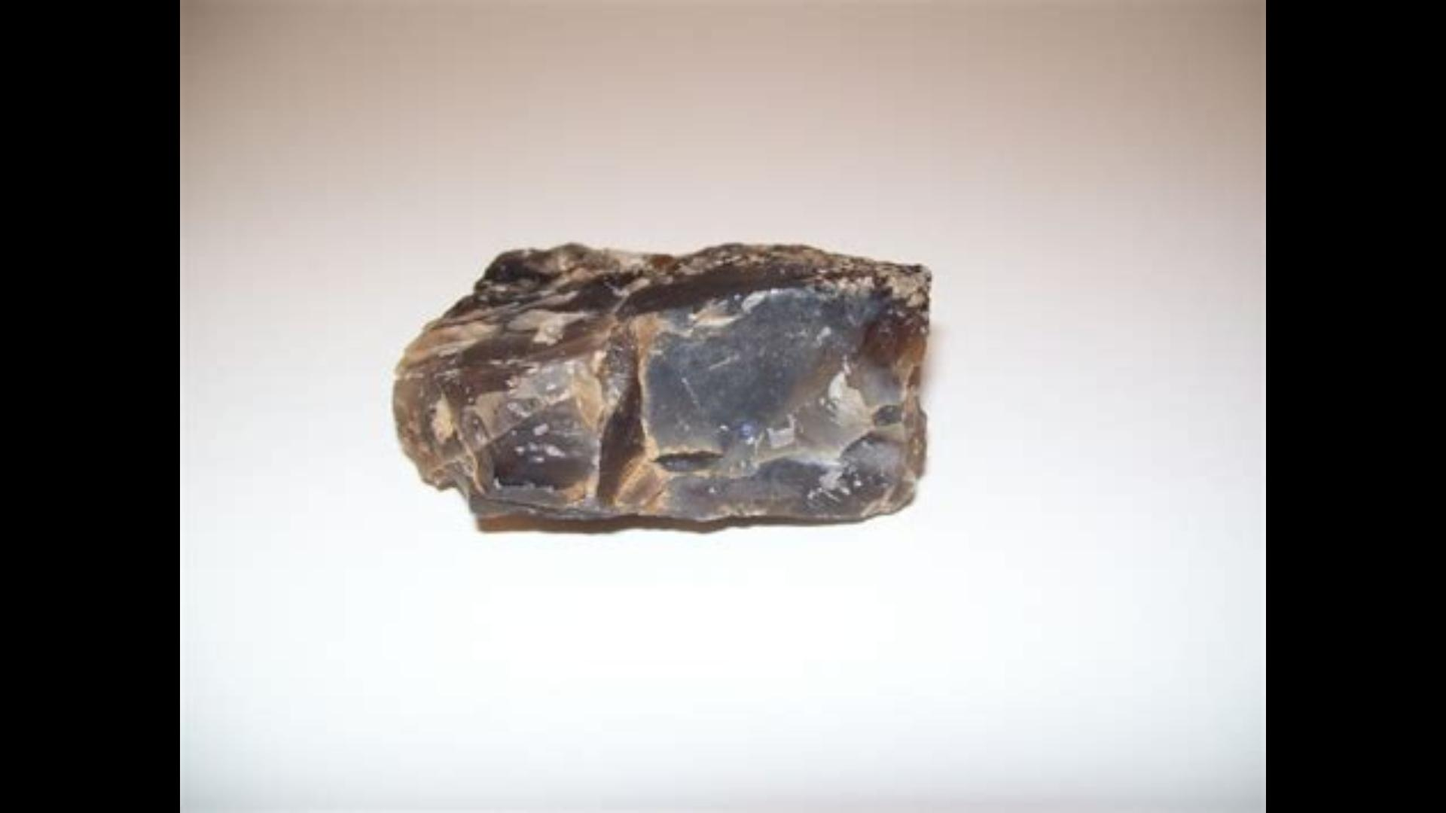rock: (393, 245, 927, 527)
